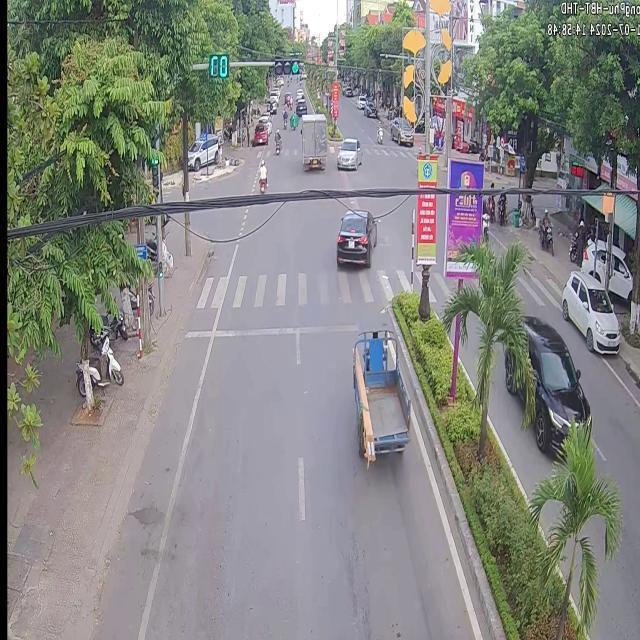car: (348, 319, 416, 484), (333, 213, 374, 275), (299, 113, 325, 170), (337, 136, 360, 167)
green_light: (272, 54, 298, 74), (147, 149, 157, 186)
motobike: (257, 159, 266, 186)
stop_line: (181, 320, 381, 337)
